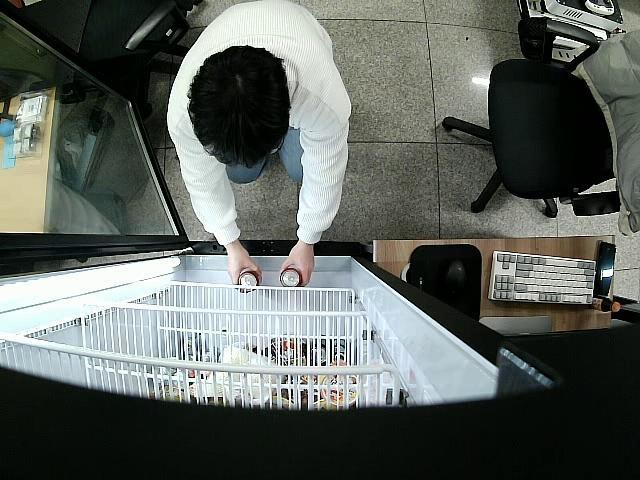11_cocaColaZero: (238, 271, 262, 293), (278, 268, 300, 287)
